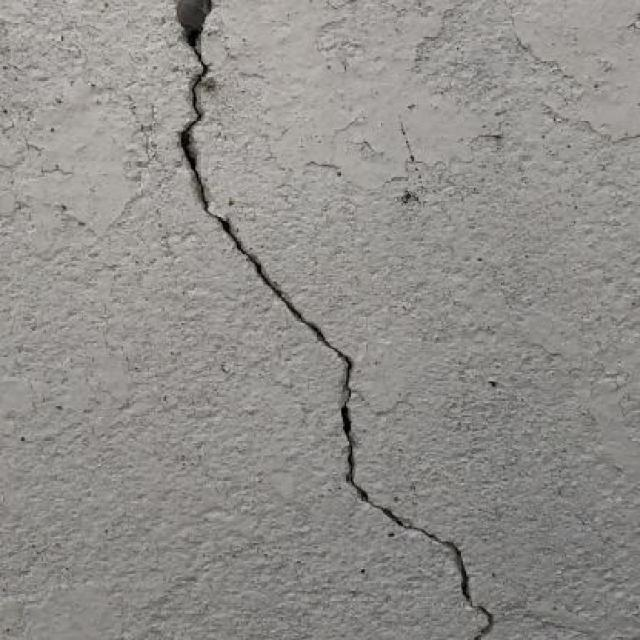GRIETA: (180, 30, 492, 639)
